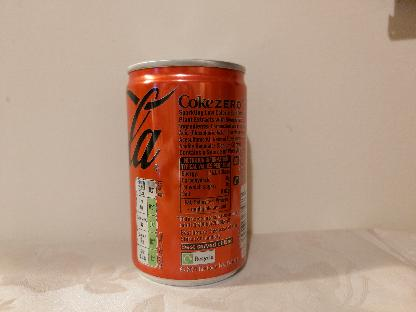Can: (124, 58, 248, 286)
